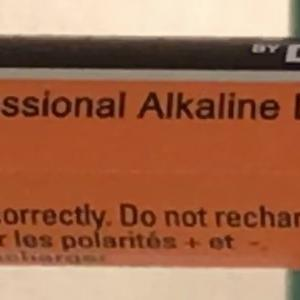ALK: (127, 82, 195, 129)
